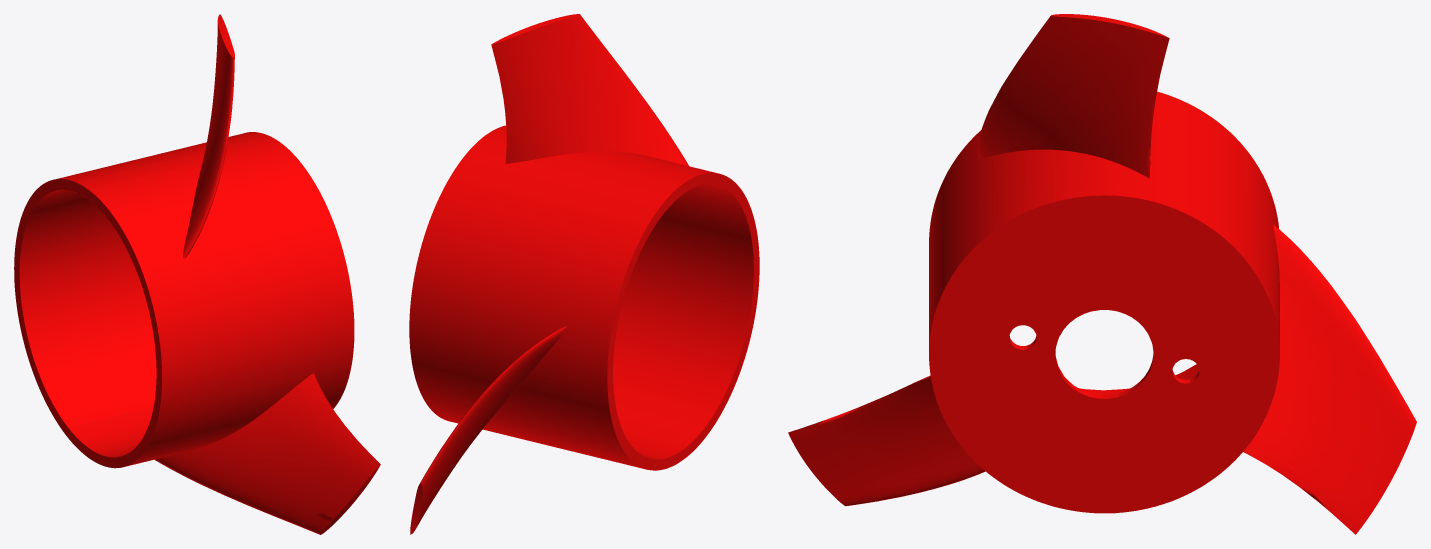
Rendered from t200_propcw.dae.
3 renders of one model, left to right at view 1: azimuth 30°, elevation 25°; view 2: azimuth 150°, elevation 25°; view 3: azimuth 270°, elevation 25°, orthographic. The views are drawn at different scales.
Visible parts, largest first — view 1: PropCW; view 2: PropCW; view 3: PropCW.
Part boxes in pixels (left/top/right/bottom): PropCW: left=14, top=14, right=380, bottom=534; PropCW: left=409, top=14, right=759, bottom=534; PropCW: left=788, top=14, right=1416, bottom=534.
Bounding box in the file's own units: 0.667 × 1.59 × 1.41.
